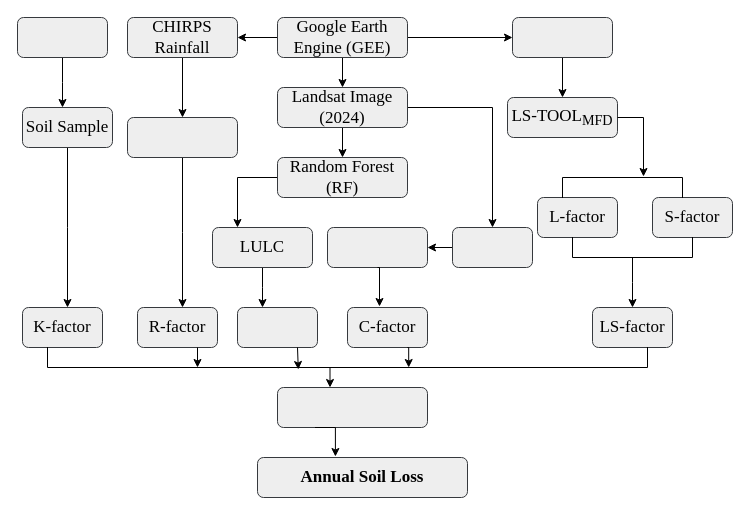
This 750x515 diagram has some shape labels left out. The centre of each missing label's shape, as x and y in pixels:
Combined (ArcGIS): pixel 377 247
Field data: pixel 62 37
Interpolation (IDW): pixel 182 137
NDVI: pixel 492 247
Overlay Analysis: pixel 352 407
P-factor: pixel 277 327
STRM-DEM (30m): pixel 562 37
